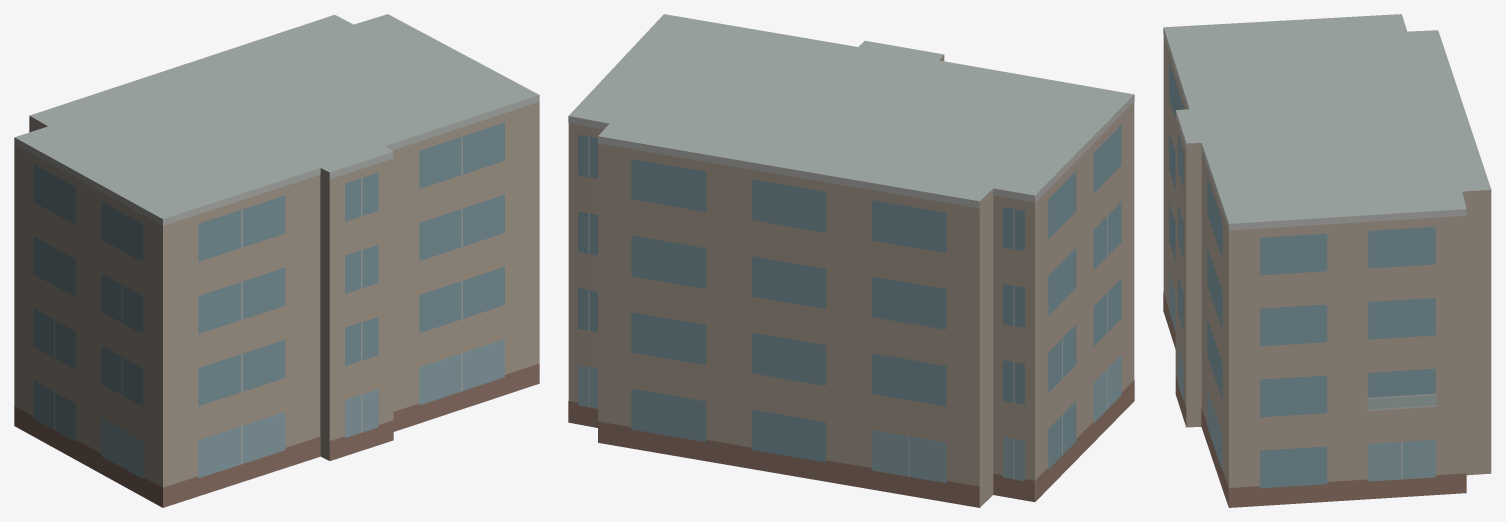
File: survey-upis-32898002.glb
The picture shows the model from 3 angles, left to right: view 1: azimuth 30°, elevation 25°; view 2: azimuth 150°, elevation 25°; view 3: azimuth 270°, elevation 25°; orthographic projection. The views are drawn at different scales.
Visible parts, largest first — view 1: survey-upis-32898002.tmp; view 2: survey-upis-32898002.tmp; view 3: survey-upis-32898002.tmp.
Part boxes in pixels (box(x1,y1,x2,y2)): survey-upis-32898002.tmp: box(14, 14, 539, 507); survey-upis-32898002.tmp: box(568, 14, 1134, 507); survey-upis-32898002.tmp: box(1163, 14, 1491, 507).
Bounding box in the file's own units: 16.5 × 10.4 × 10.89.
